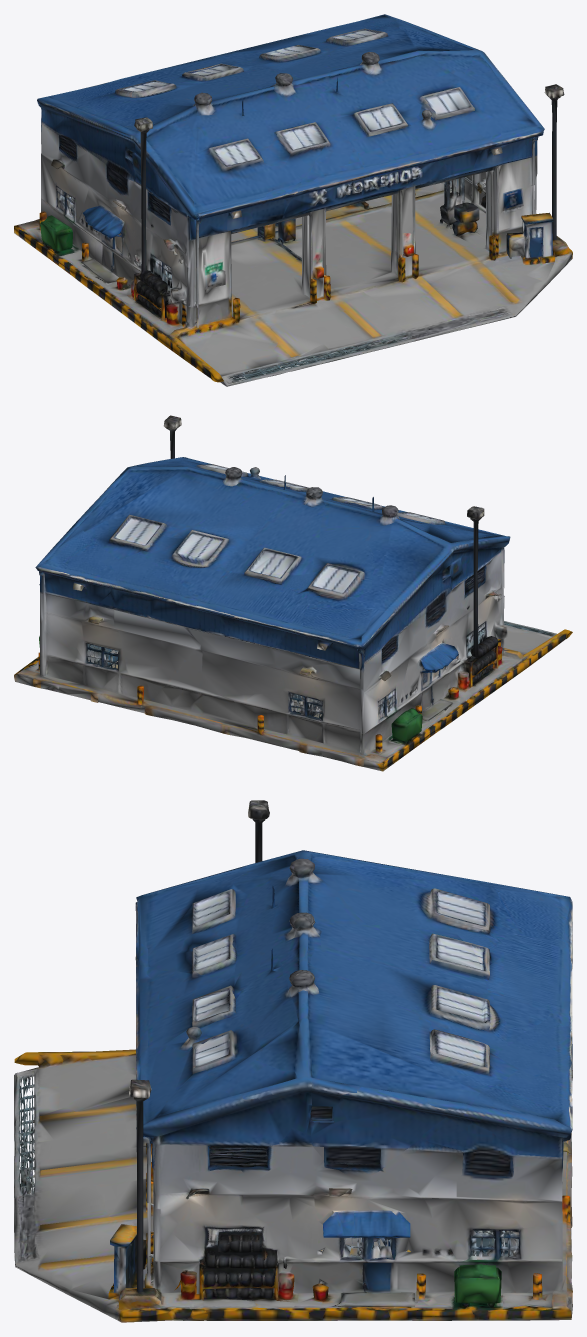
The model's file is workshop_building_3d_model-9c2e4e2f.glb.
3 views of the same model, one above another, from view 1: azimuth 30°, elevation 25°; view 2: azimuth 150°, elevation 25°; view 3: azimuth 270°, elevation 25° (orthographic). The views are drawn at different scales.
Visible parts, largest first — view 1: tripo_node_65759bf1-e73d-40e5-8b4d-f6ca3d833184; view 2: tripo_node_65759bf1-e73d-40e5-8b4d-f6ca3d833184; view 3: tripo_node_65759bf1-e73d-40e5-8b4d-f6ca3d833184.
Part boxes in pixels (<box>): tripo_node_65759bf1-e73d-40e5-8b4d-f6ca3d833184: <box>14,14,572,386</box>; tripo_node_65759bf1-e73d-40e5-8b4d-f6ca3d833184: <box>14,415,572,771</box>; tripo_node_65759bf1-e73d-40e5-8b4d-f6ca3d833184: <box>14,800,572,1322</box>.
Bounding box in the file's own units: 0.9803 × 0.4772 × 0.8799.
1 material, 1 textured.
